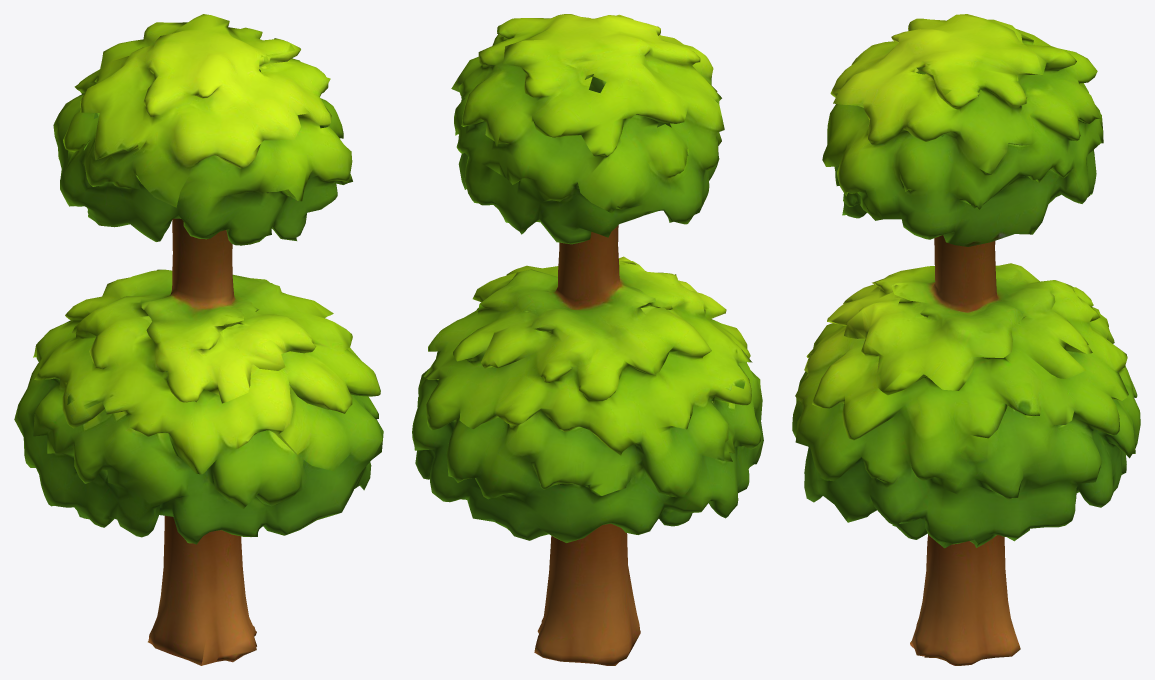
The model's file is tree-round-2.glb.
3 renders of one model, left to right at view 1: azimuth 30°, elevation 25°; view 2: azimuth 150°, elevation 25°; view 3: azimuth 270°, elevation 25°, orthographic. The views are drawn at different scales.
Visible parts, largest first — view 1: tripo_node_0340e6fb-791e-4173-8e86-12236726d749; view 2: tripo_node_0340e6fb-791e-4173-8e86-12236726d749; view 3: tripo_node_0340e6fb-791e-4173-8e86-12236726d749.
Part boxes in pixels (box(x1,y1,x2,y2)): tripo_node_0340e6fb-791e-4173-8e86-12236726d749: box(14, 14, 383, 665); tripo_node_0340e6fb-791e-4173-8e86-12236726d749: box(412, 14, 763, 665); tripo_node_0340e6fb-791e-4173-8e86-12236726d749: box(792, 14, 1140, 665).
Size of the model in its own units: 0.5221 by 0.9984 by 0.5168.
Materials: 1 (1 with a texture image).
